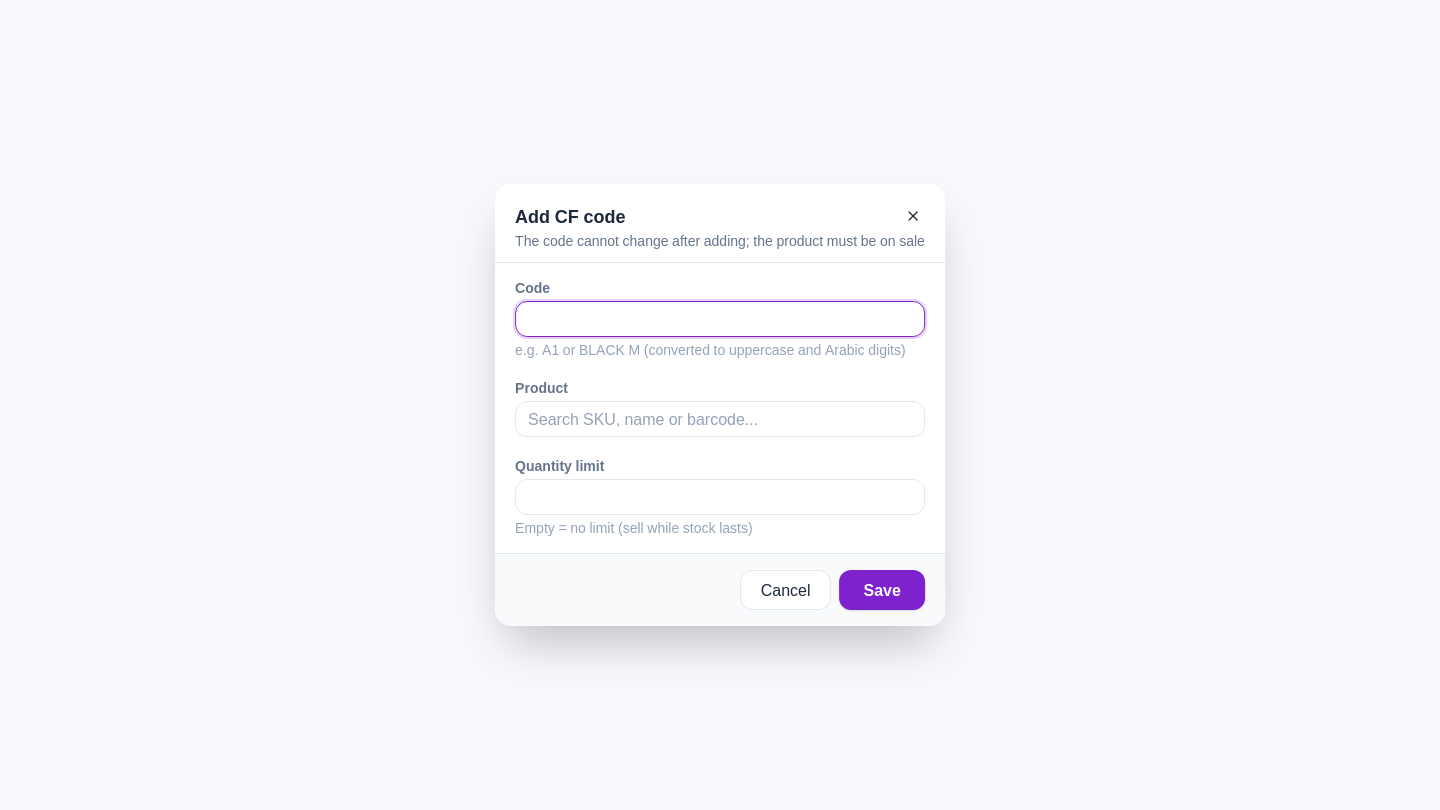
Test case: ItemFormDialog › API error (ລະຫັດຊ້ຳ): alert ແລະ ບໍ່ປິດ
Type "A1" into the field labelled "Code" at (720, 319), box [515, 301, 925, 337]
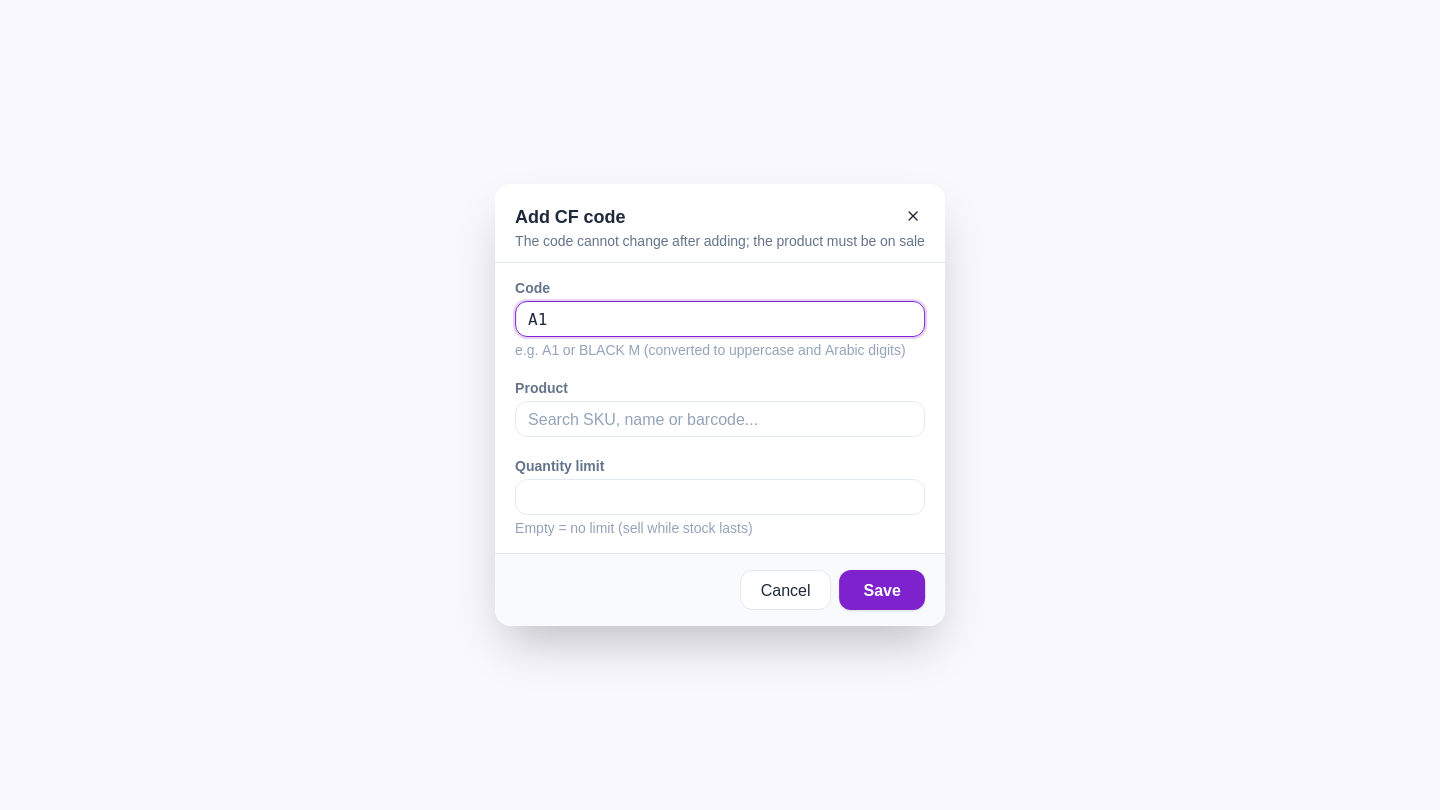
Type "shirt" into the dropdown labelled "Product" at (720, 419), box [515, 401, 925, 437]
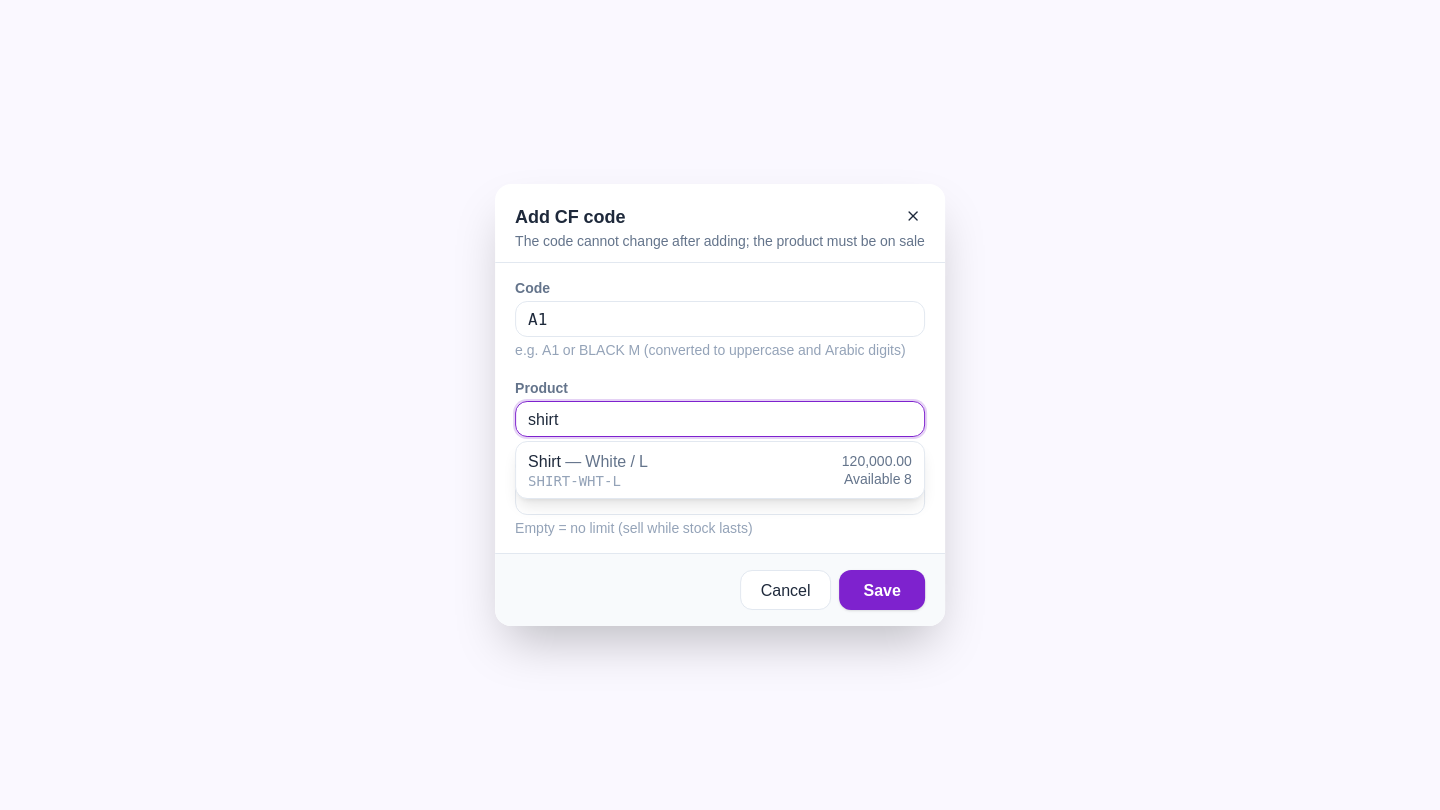
Click the option "Shirt — White / L SHIRT-WHT-L 120,000.00 Available 8" at (545, 461), box [516, 442, 924, 498]
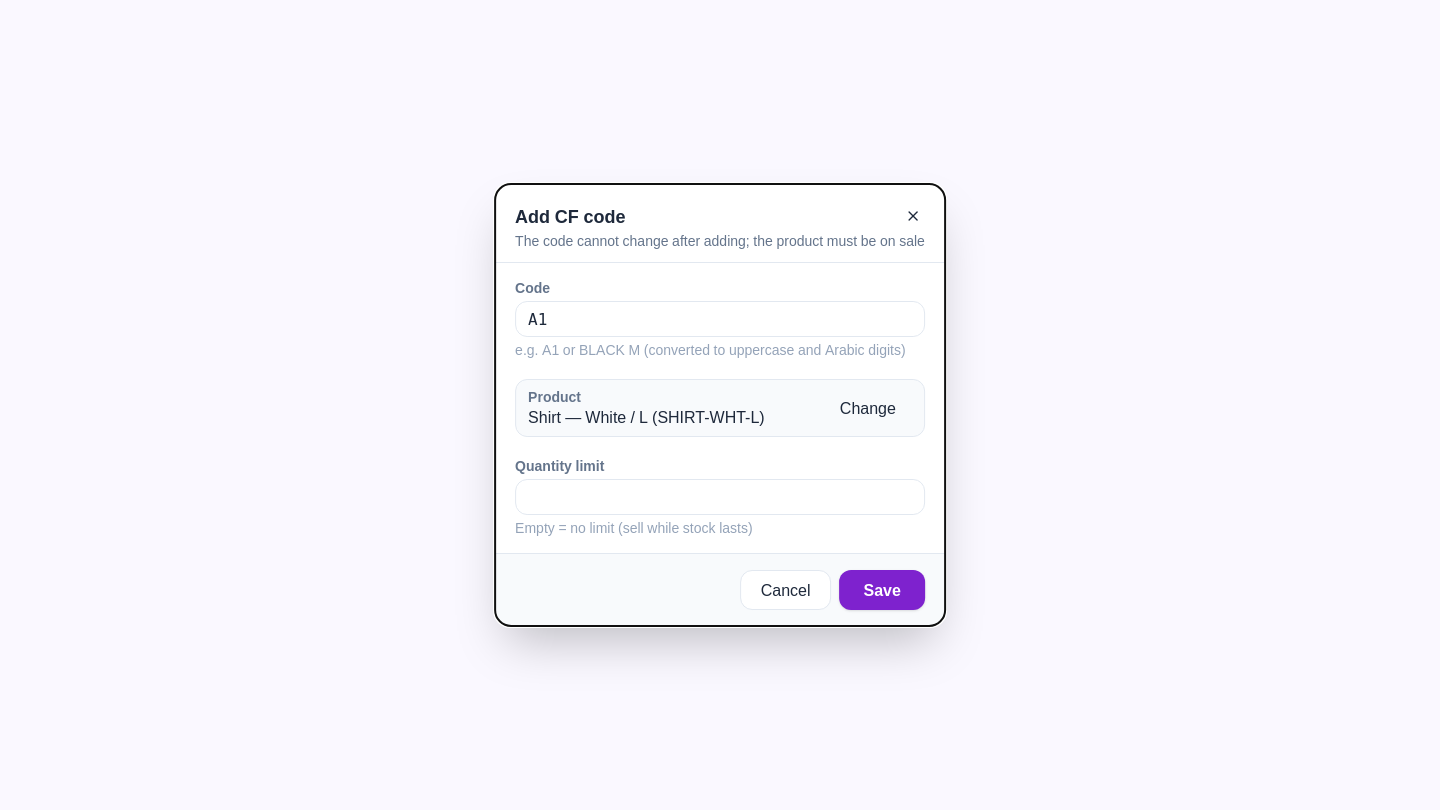
Click the button "Save" at (882, 590), box [840, 570, 925, 610]
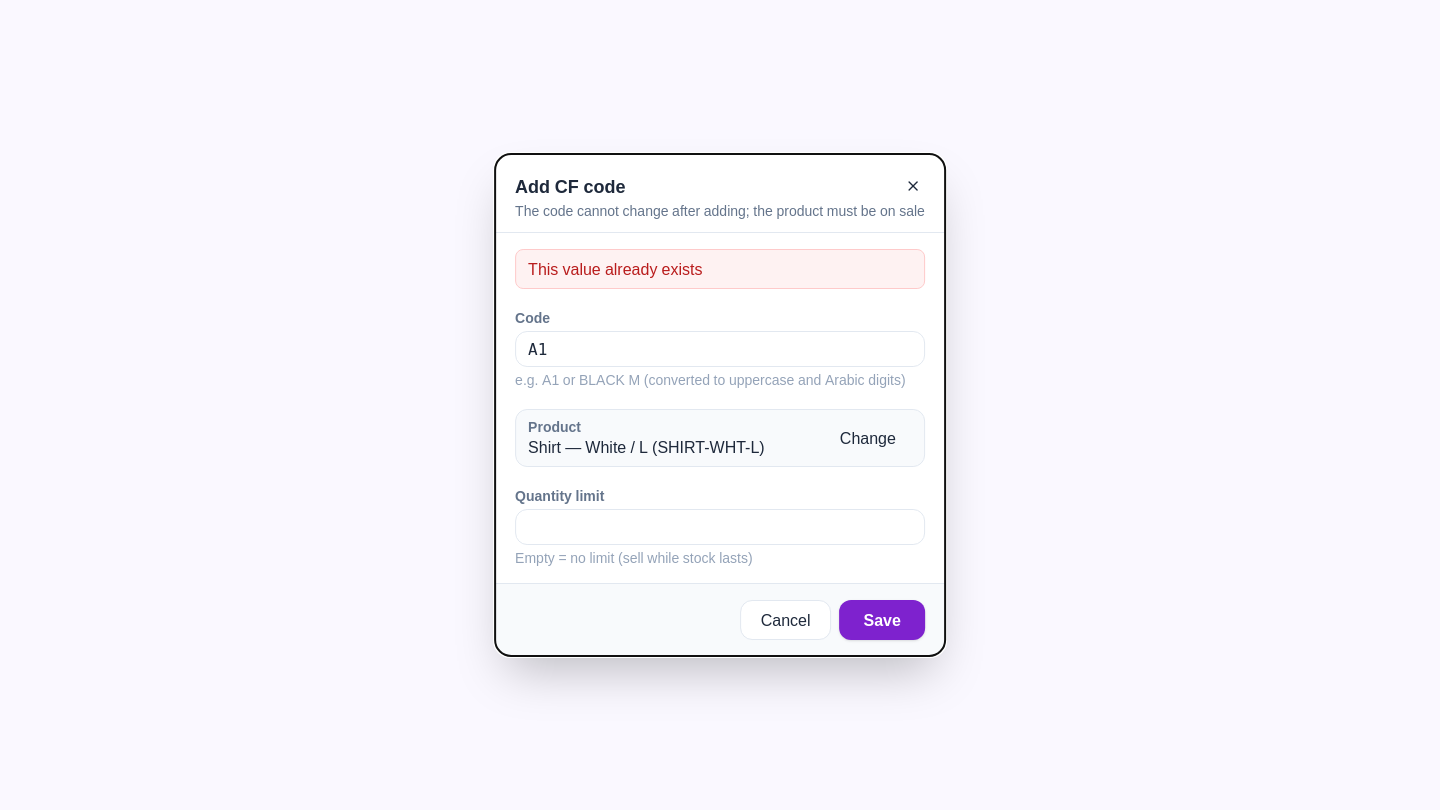
Now the text "This value already exists" is shown, box [515, 249, 925, 289]
